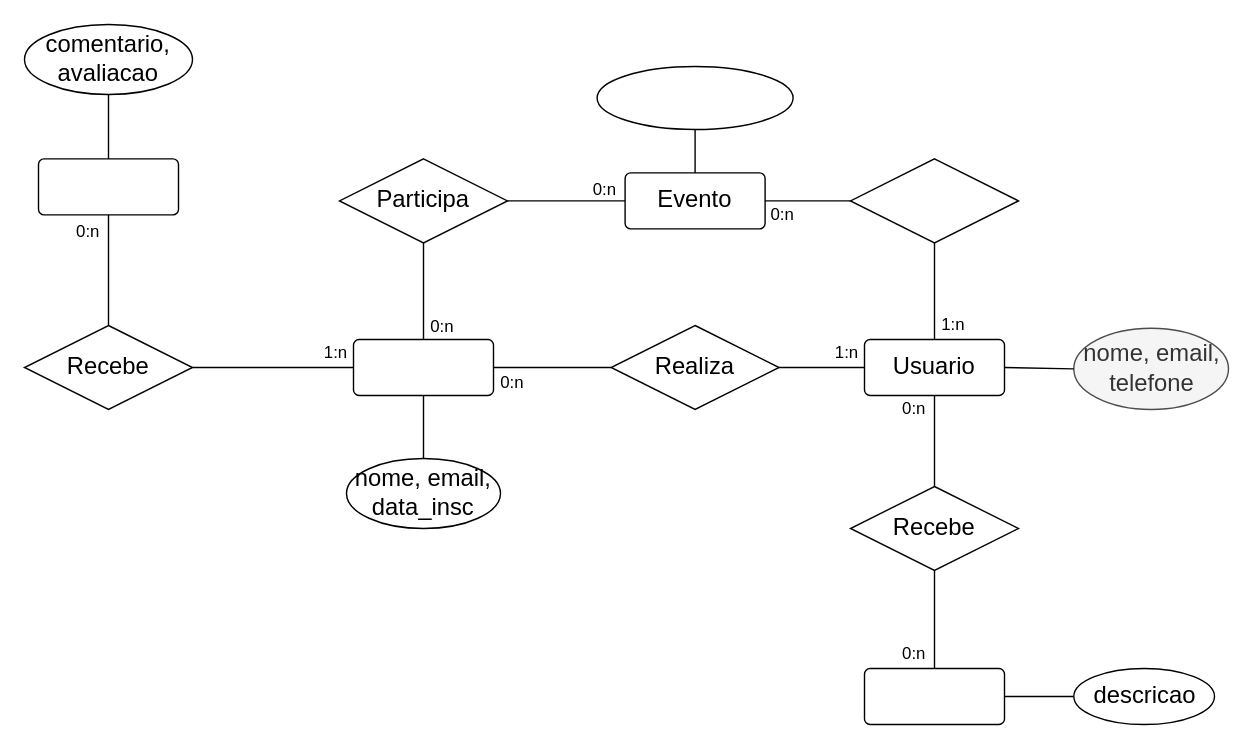
Image size: 1253x749. Some labels were removed from this diagram. Here are the shapes that lost their labels. From the top down, the box of each, then its label:
(596, 65, 793, 130): titulo, data, hora, tema
(37, 158, 178, 215): FeedBack
(849, 158, 1018, 243): Gerencia
(352, 338, 493, 396): Inscricao
(863, 667, 1004, 724): Perfil
